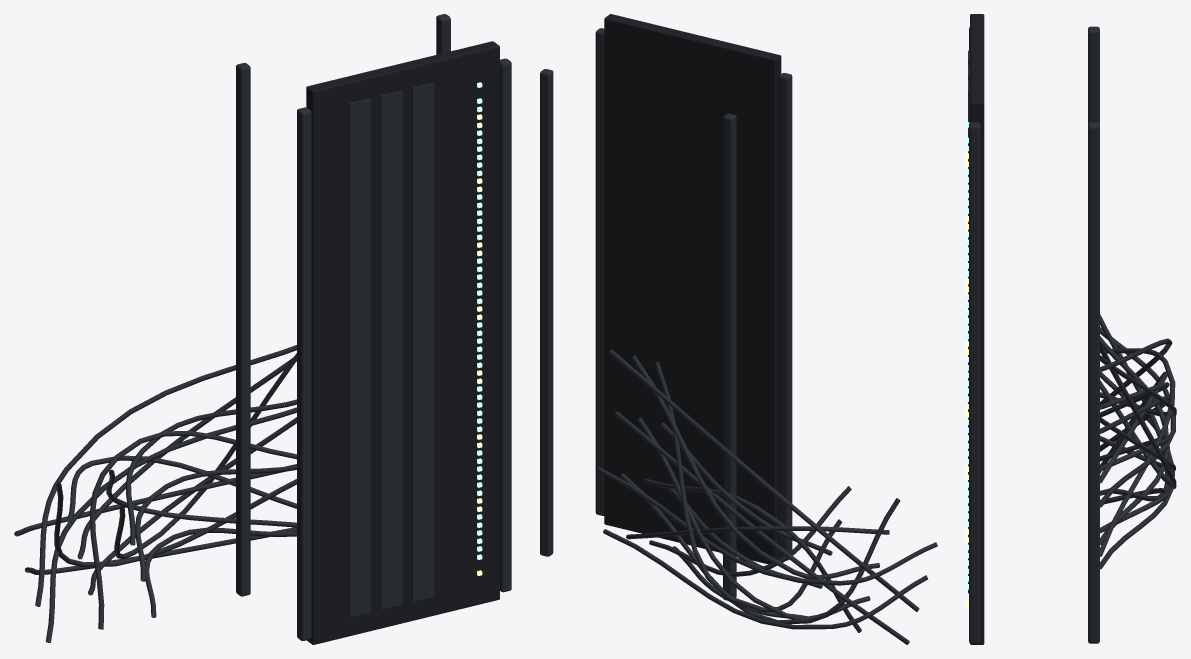
The model's file is server_rack.glb.
3 views of the same model, side by side, from view 1: azimuth 30°, elevation 25°; view 2: azimuth 150°, elevation 25°; view 3: azimuth 270°, elevation 25° (orthographic). The views are drawn at different scales.
Visible parts, largest first — view 1: rack_unit_01, rack_post_1, rack_post_3, rack_unit_30, rack_post_2, rack_unit_02, rack_unit_28, rack_unit_16, rack_unit_19, rack_unit_25, rack_unit_21, rack_unit_04 (+69 smaller); view 2: rack_unit_01, rack_unit_29, rack_post_1, rack_post_4, rack_post_3, rack_unit_25, rack_unit_28, rack_unit_19, rack_unit_09, rack_unit_17, rack_unit_23, rack_unit_02 (+35 smaller); view 3: rack_post_2, rack_post_4, rack_unit_30, cable_04, cable_09, rack_post_3, cable_05, cable_14, cable_13, cable_06, cable_12, cable_10 (+6 smaller).
Boxes of the visible parts, box(x1,y1,x2,y2) form: rack_unit_01: box(307, 511, 499, 644); rack_post_1: box(297, 107, 311, 640); rack_post_3: box(236, 63, 250, 596); rack_unit_30: box(306, 41, 499, 178); rack_post_2: box(500, 58, 511, 592); rack_unit_02: box(312, 495, 499, 627); rack_unit_28: box(311, 79, 499, 210); rack_unit_16: box(311, 271, 499, 403); rack_unit_19: box(311, 226, 499, 348); rack_unit_25: box(311, 127, 499, 259); rack_unit_21: box(311, 191, 499, 315); rack_unit_04: box(311, 463, 499, 595); rack_unit_01: box(604, 443, 778, 564); rack_unit_29: box(604, 34, 781, 154); rack_post_1: box(778, 73, 792, 560); rack_post_4: box(540, 69, 553, 556); rack_post_3: box(723, 113, 736, 600); rack_unit_25: box(604, 93, 778, 213); rack_unit_28: box(604, 48, 778, 163); rack_unit_19: box(604, 180, 778, 295); rack_unit_09: box(604, 327, 778, 447); rack_unit_17: box(604, 210, 778, 331); rack_unit_23: box(604, 122, 778, 242); rack_unit_02: box(604, 429, 778, 550); rack_post_2: box(969, 122, 980, 643); rack_post_4: box(1088, 122, 1099, 643); rack_unit_30: box(970, 14, 984, 190); cable_04: box(1100, 343, 1176, 488); cable_09: box(1100, 348, 1175, 556); rack_post_3: box(1088, 26, 1099, 123); cable_05: box(1100, 336, 1169, 544); cable_14: box(1100, 327, 1175, 507); cable_13: box(1100, 372, 1174, 569); cable_06: box(1100, 371, 1167, 483); cable_12: box(1100, 338, 1172, 404); cable_10: box(1100, 314, 1169, 501).
Size of the model in its own units: 4.11 by 5.02 by 1.77.
